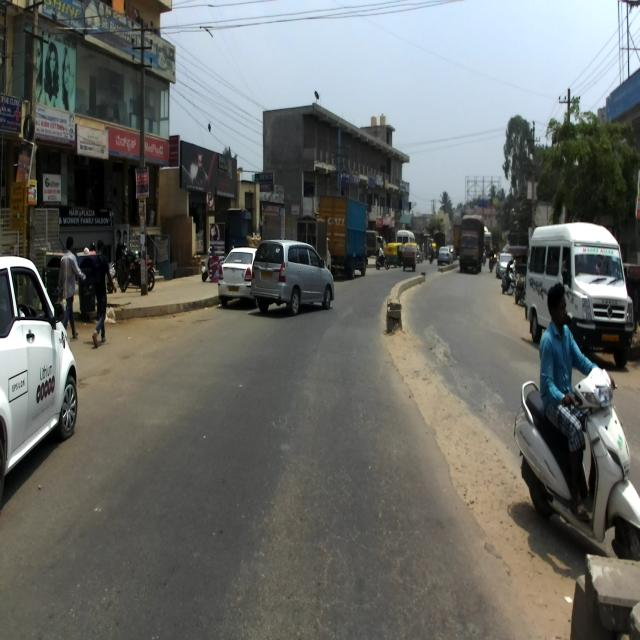car ahead at: (0, 252, 79, 476), (251, 234, 336, 315)
motorcycle ahead at: (516, 367, 640, 548)
